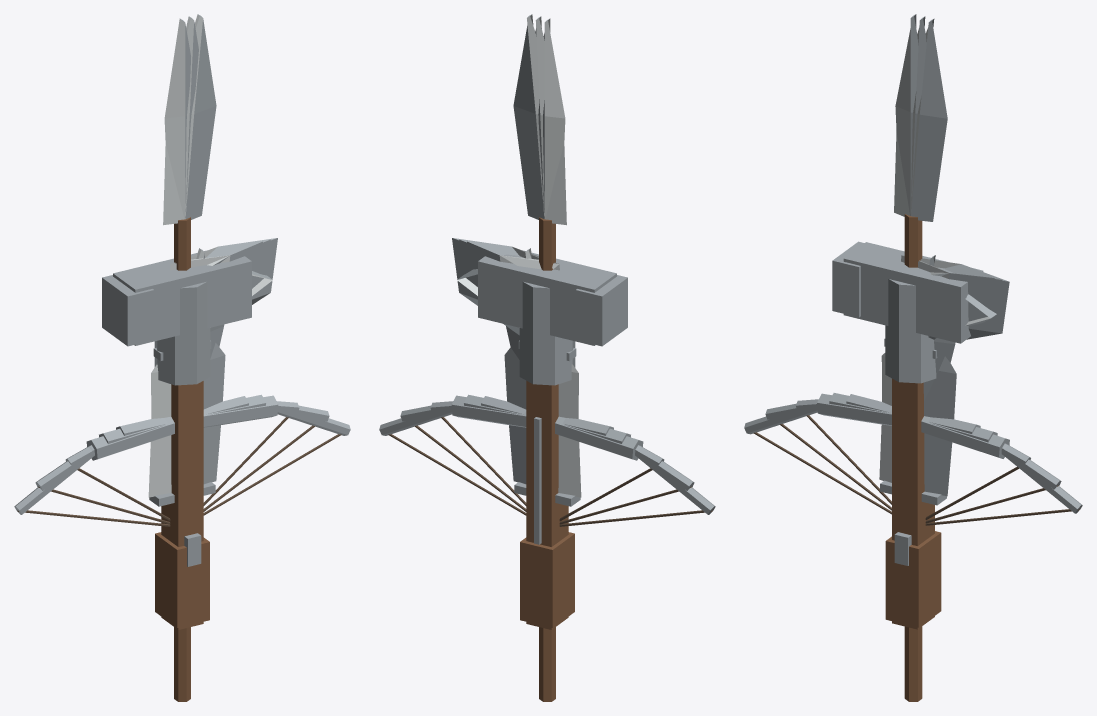
Rendered from weapons_v1.glb.
3 renders of one model, left to right at view 1: azimuth 30°, elevation 25°; view 2: azimuth 150°, elevation 25°; view 3: azimuth 330°, elevation 25°, orthographic.
Visible parts, largest first — view 1: crossbow_look1, crossbow_look3, hammer_look3, polearm_look1, polearm_look3, cleaver_look3, club_look3, crossbow_look2, hammer_look1, axe_look3, hammer_look2, polearm_look2 (+1 smaller); view 2: crossbow_look1, crossbow_look3, hammer_look3, polearm_look3, polearm_look1, club_look3, cleaver_look3, hammer_look1, crossbow_look2, axe_look3, hammer_look2, polearm_look2; view 3: crossbow_look1, crossbow_look3, polearm_look3, polearm_look1, hammer_look3, cleaver_look3, club_look3, hammer_look1, crossbow_look2, axe_look3, hammer_look2, polearm_look2 (+2 smaller).
Boxes of the visible parts, x1,y1,x2,y2 form: crossbow_look1: [65, 381, 299, 627]; crossbow_look3: [14, 381, 350, 629]; hammer_look3: [102, 250, 272, 346]; polearm_look1: [164, 18, 190, 701]; polearm_look3: [163, 14, 216, 225]; cleaver_look3: [148, 343, 225, 497]; club_look3: [153, 282, 211, 385]; crossbow_look2: [35, 394, 329, 546]; hammer_look1: [139, 277, 224, 342]; axe_look3: [170, 238, 277, 304]; hammer_look2: [121, 276, 211, 343]; polearm_look2: [185, 16, 198, 217]; crossbow_look1: [430, 381, 664, 627]; crossbow_look3: [379, 381, 715, 629]; hammer_look3: [457, 250, 627, 346]; polearm_look3: [513, 14, 566, 225]; polearm_look1: [539, 18, 565, 701]; club_look3: [518, 282, 576, 385]; cleaver_look3: [504, 347, 581, 497]; hammer_look1: [491, 272, 590, 342]; crossbow_look2: [400, 394, 694, 546]; axe_look3: [452, 238, 559, 335]; hammer_look2: [486, 268, 617, 344]; polearm_look2: [535, 16, 544, 218]; crossbow_look1: [795, 378, 1030, 627]; crossbow_look3: [744, 393, 1082, 629]; polearm_look3: [894, 18, 947, 221]; polearm_look1: [895, 14, 922, 701]; hammer_look3: [832, 241, 996, 343]; cleaver_look3: [879, 353, 956, 496]; club_look3: [884, 279, 937, 383]; hammer_look1: [845, 262, 947, 332]; crossbow_look2: [765, 393, 1061, 545]; axe_look3: [901, 255, 1009, 339]; hammer_look2: [839, 262, 953, 337]; polearm_look2: [910, 16, 926, 215].
Bounding box in the file's own units: 1.12 × 2.17 × 0.168.
